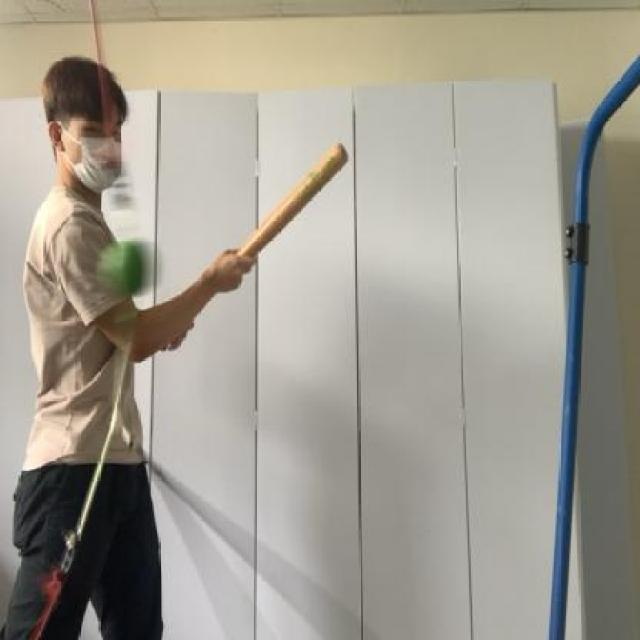baseball: (86, 220, 169, 312)
